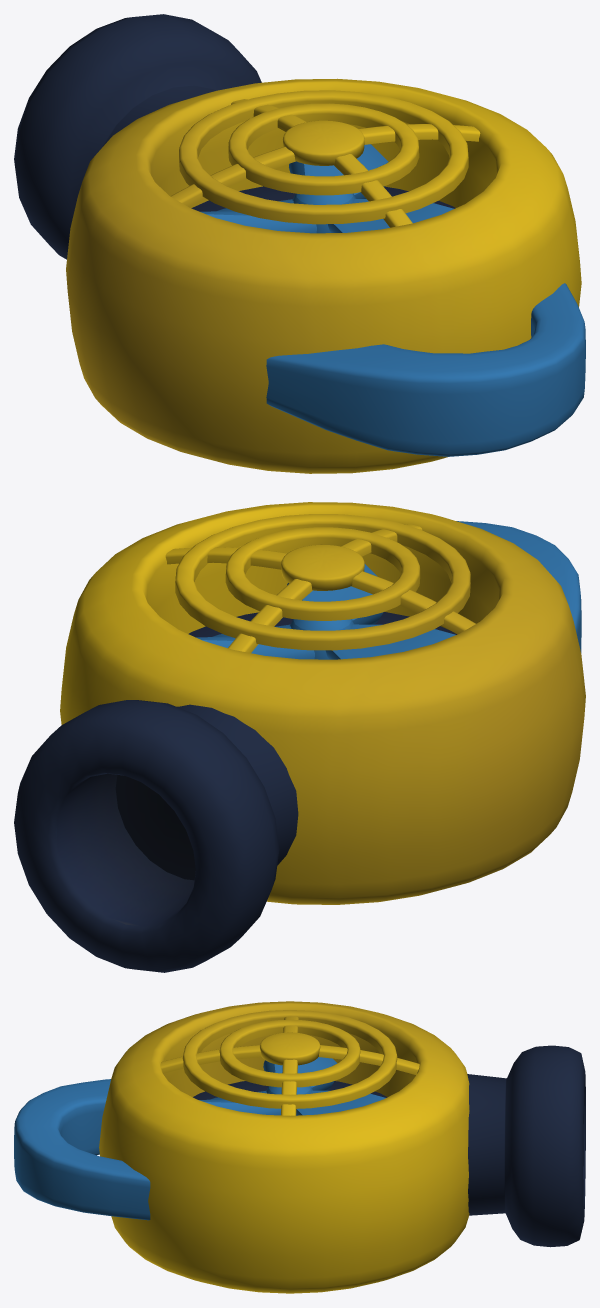
The model's file is WindBlower.fbx.
3 renders of one model, top to bottom at view 1: azimuth 30°, elevation 25°; view 2: azimuth 150°, elevation 25°; view 3: azimuth 270°, elevation 25°, orthographic. The views are drawn at different scales.
Parts seen in each view (by area): view 1: WindBlower, Cylinder009; view 2: WindBlower, Cylinder009; view 3: WindBlower, Cylinder009.
Boxes of the visible parts, x1,y1,x2,y2 form: WindBlower: (14, 14, 585, 473); Cylinder009: (200, 144, 453, 233); WindBlower: (14, 502, 585, 972); Cylinder009: (196, 564, 455, 659); WindBlower: (14, 1001, 585, 1293); Cylinder009: (199, 1057, 385, 1115).
Bounding box in the file's own units: 20.2 × 11.5 × 30.23.
